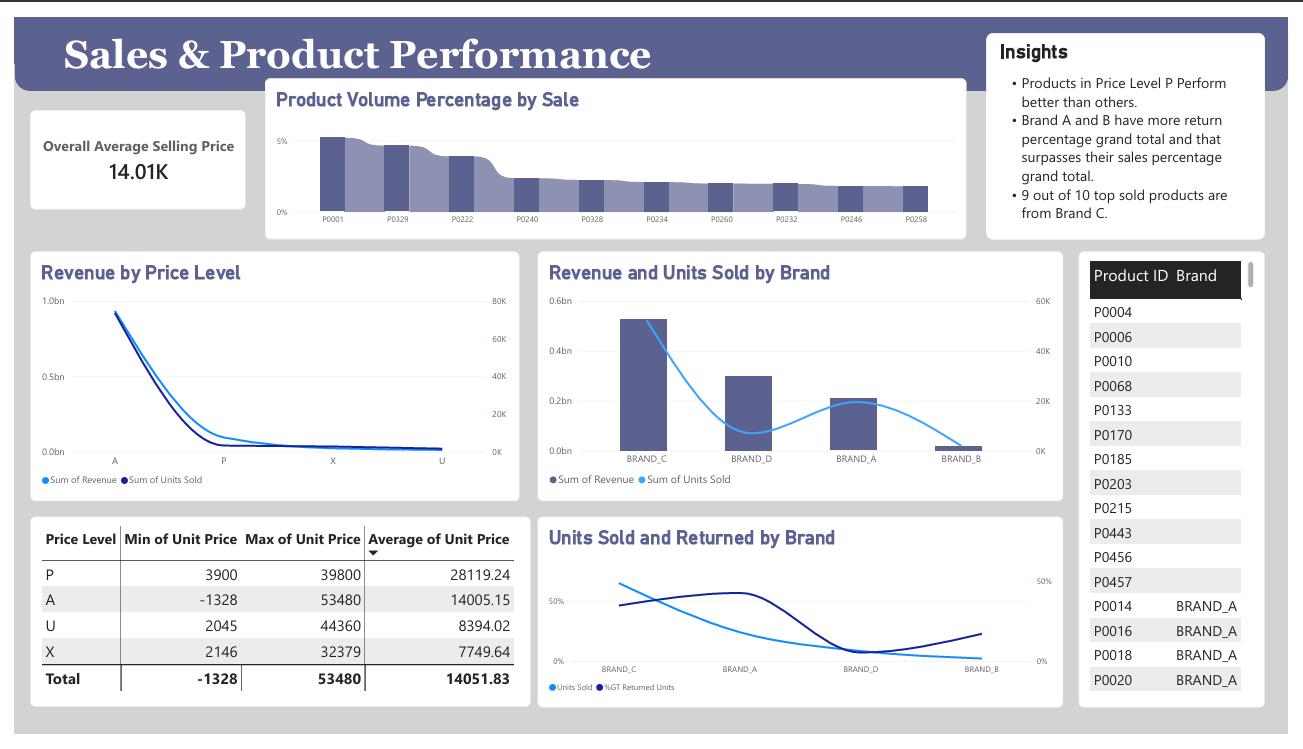

This screenshot's page, from the dashboard's own definition file:
{"tool":"powerbi","page":{"name":"Page 2","canvas":[1920,1080],"ordinal":1},"visuals":[{"type":"shape","box":[0,0,1920,70],"z":0},{"type":"shape","box":[0,0,1920,110],"z":1000},{"type":"textbox","box":[74,22,930,68],"z":2000},{"type":"lineStackedColumnComboChart","title":"Revenue and Units Sold by Brand","fields":{"Category":["supplier.Brand"],"Y2":["Sum(sales.Units Sold)"],"Y":["Sum(sales.Revenue)"]},"box":[788.1,352.1,792.7,377],"z":3000},{"type":"cardVisual","fields":{"Data":["sales.Average Selling Price"]},"box":[22.7,138.5,325,150],"z":4000},{"type":"lineChart","title":"Revenue by Price Level","fields":{"Category":["sales.Price Level"],"Y":["Sum(sales.Revenue)"],"Y2":["Sum(sales.Units Sold)"]},"box":[22.7,352.1,738.2,377],"z":5000},{"type":"tableEx","fields":{"Values":["sales.Price Level","Min(sales.Unit Price)","Max(sales.Unit Price)","Avg(sales.Unit Price)1"]},"box":[22.7,751.8,755,287.5],"z":6000},{"type":"lineChart","title":"Units Sold and Returned by Brand","fields":{"Category":["supplier.Brand"],"Y":["Sum(sales.Units Sold)"],"Y2":["sales.Returned Units"]},"box":[788.1,751.8,792.7,288.5],"z":7000},{"type":"ribbonChart","title":"Product Volume Percentage by Sale","fields":{"Category":["sales.Product ID"],"Y":["sales.Product Vol Percentage"]},"box":[377,90.9,1058.4,243],"z":8000},{"type":"textbox","title":"Insights","box":[1465,22.7,420.2,311.2],"z":9000},{"type":"tableEx","fields":{"Values":["sales.Product ID","supplier.Brand"]},"box":[1601.3,352.1,283.9,688.2],"z":10000}]}

Visuals, with their boxes in screenshot pixels (x1, y1, x2, y2), scaled from the page's 1920x1080 canvas onto the 1303x749 screenshot:
shape: (x1=0, y1=0, x2=1302, y2=49)
shape: (x1=0, y1=0, x2=1302, y2=76)
textbox: (x1=50, y1=15, x2=681, y2=62)
"Revenue and Units Sold by Brand" lineStackedColumnComboChart: (x1=535, y1=244, x2=1073, y2=506)
cardVisual - sales.Average Selling Price: (x1=15, y1=96, x2=236, y2=200)
"Revenue by Price Level" lineChart: (x1=15, y1=244, x2=516, y2=506)
tableEx - sales.Price Level x Min(sales.Unit Price): (x1=15, y1=521, x2=528, y2=721)
"Units Sold and Returned by Brand" lineChart: (x1=535, y1=521, x2=1073, y2=721)
"Product Volume Percentage by Sale" ribbonChart: (x1=256, y1=63, x2=974, y2=232)
"Insights" textbox: (x1=994, y1=16, x2=1279, y2=232)
tableEx - sales.Product ID x supplier.Brand: (x1=1087, y1=244, x2=1279, y2=721)
